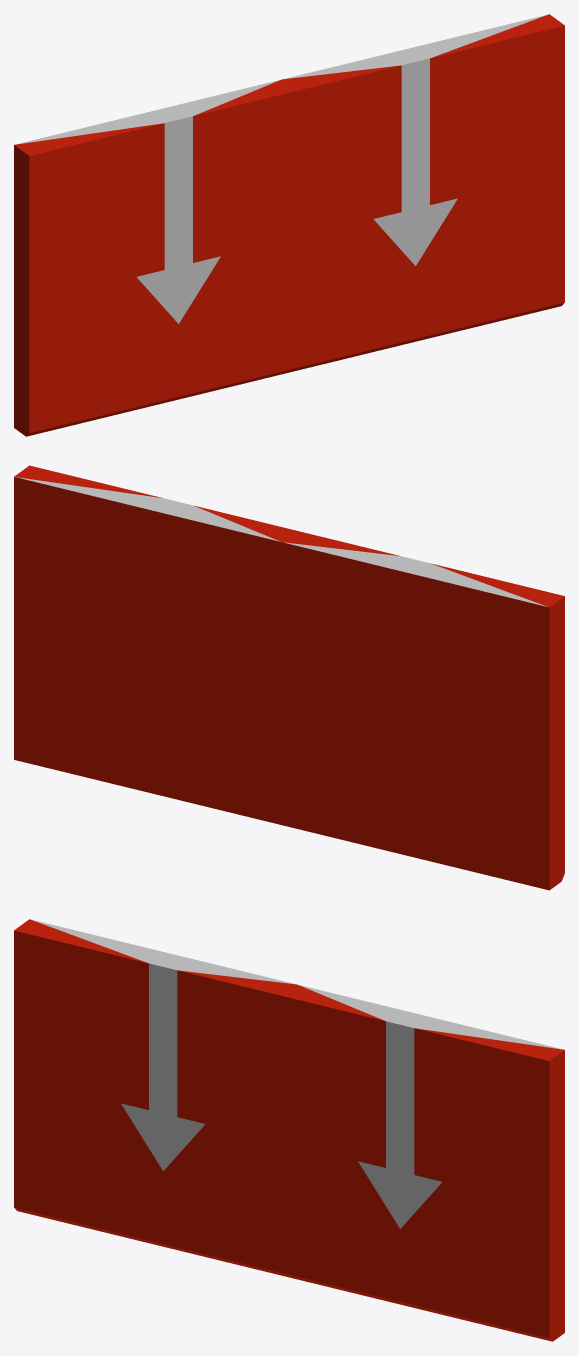
File: wall top.obj
The picture shows the model from 3 angles, top to bottom: view 1: azimuth 30°, elevation 25°; view 2: azimuth 150°, elevation 25°; view 3: azimuth 330°, elevation 25°; orthographic projection.
Parts seen in each view (by area): view 1: Plane.009; view 2: Plane.009; view 3: Plane.009.
Boxes of the visible parts, x1,y1,x2,y2 form: Plane.009: (14, 14, 564, 436); Plane.009: (14, 465, 564, 890); Plane.009: (14, 919, 564, 1341).
Bounding box in the file's own units: 4 × 2.02 × 0.2.
